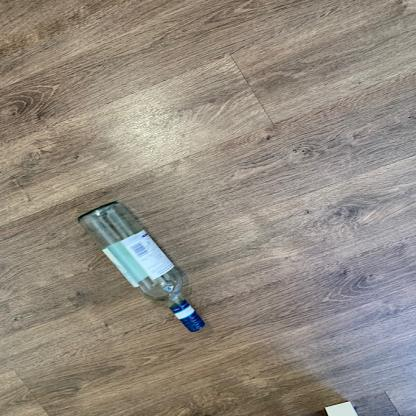trash: (79, 202, 207, 336)
